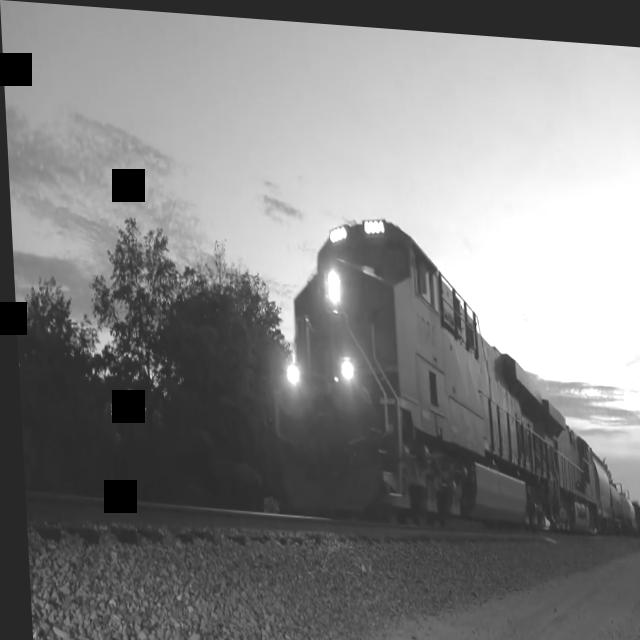locomotive: (256, 179, 548, 552)
